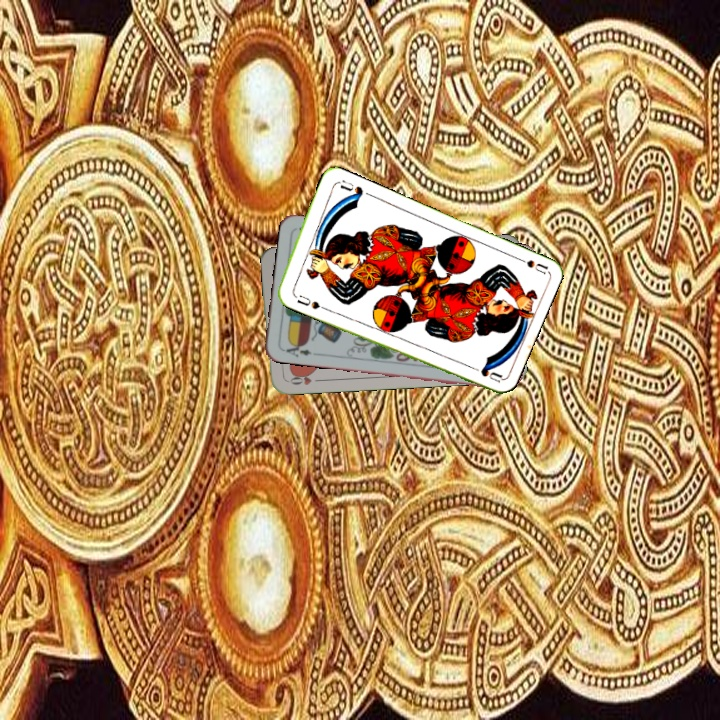EA: (279, 339, 314, 360)
HO: (282, 369, 322, 387)
SU: (509, 252, 549, 276), (293, 291, 322, 312)
